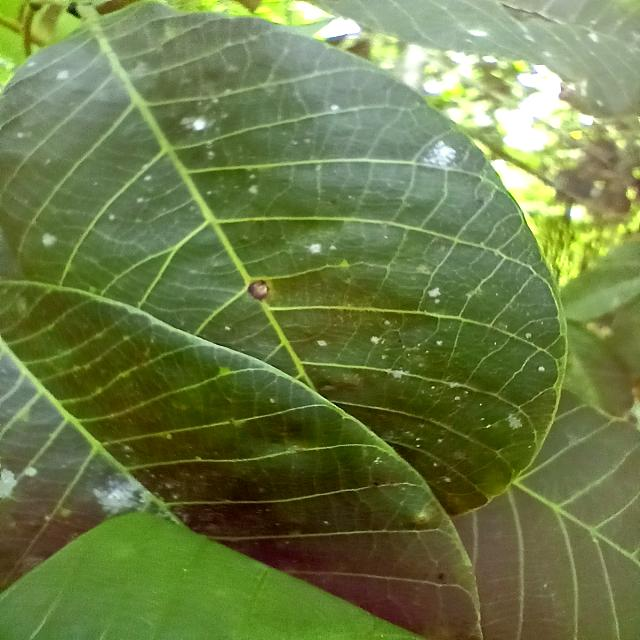Colletotrichum: (248, 280, 269, 300)
